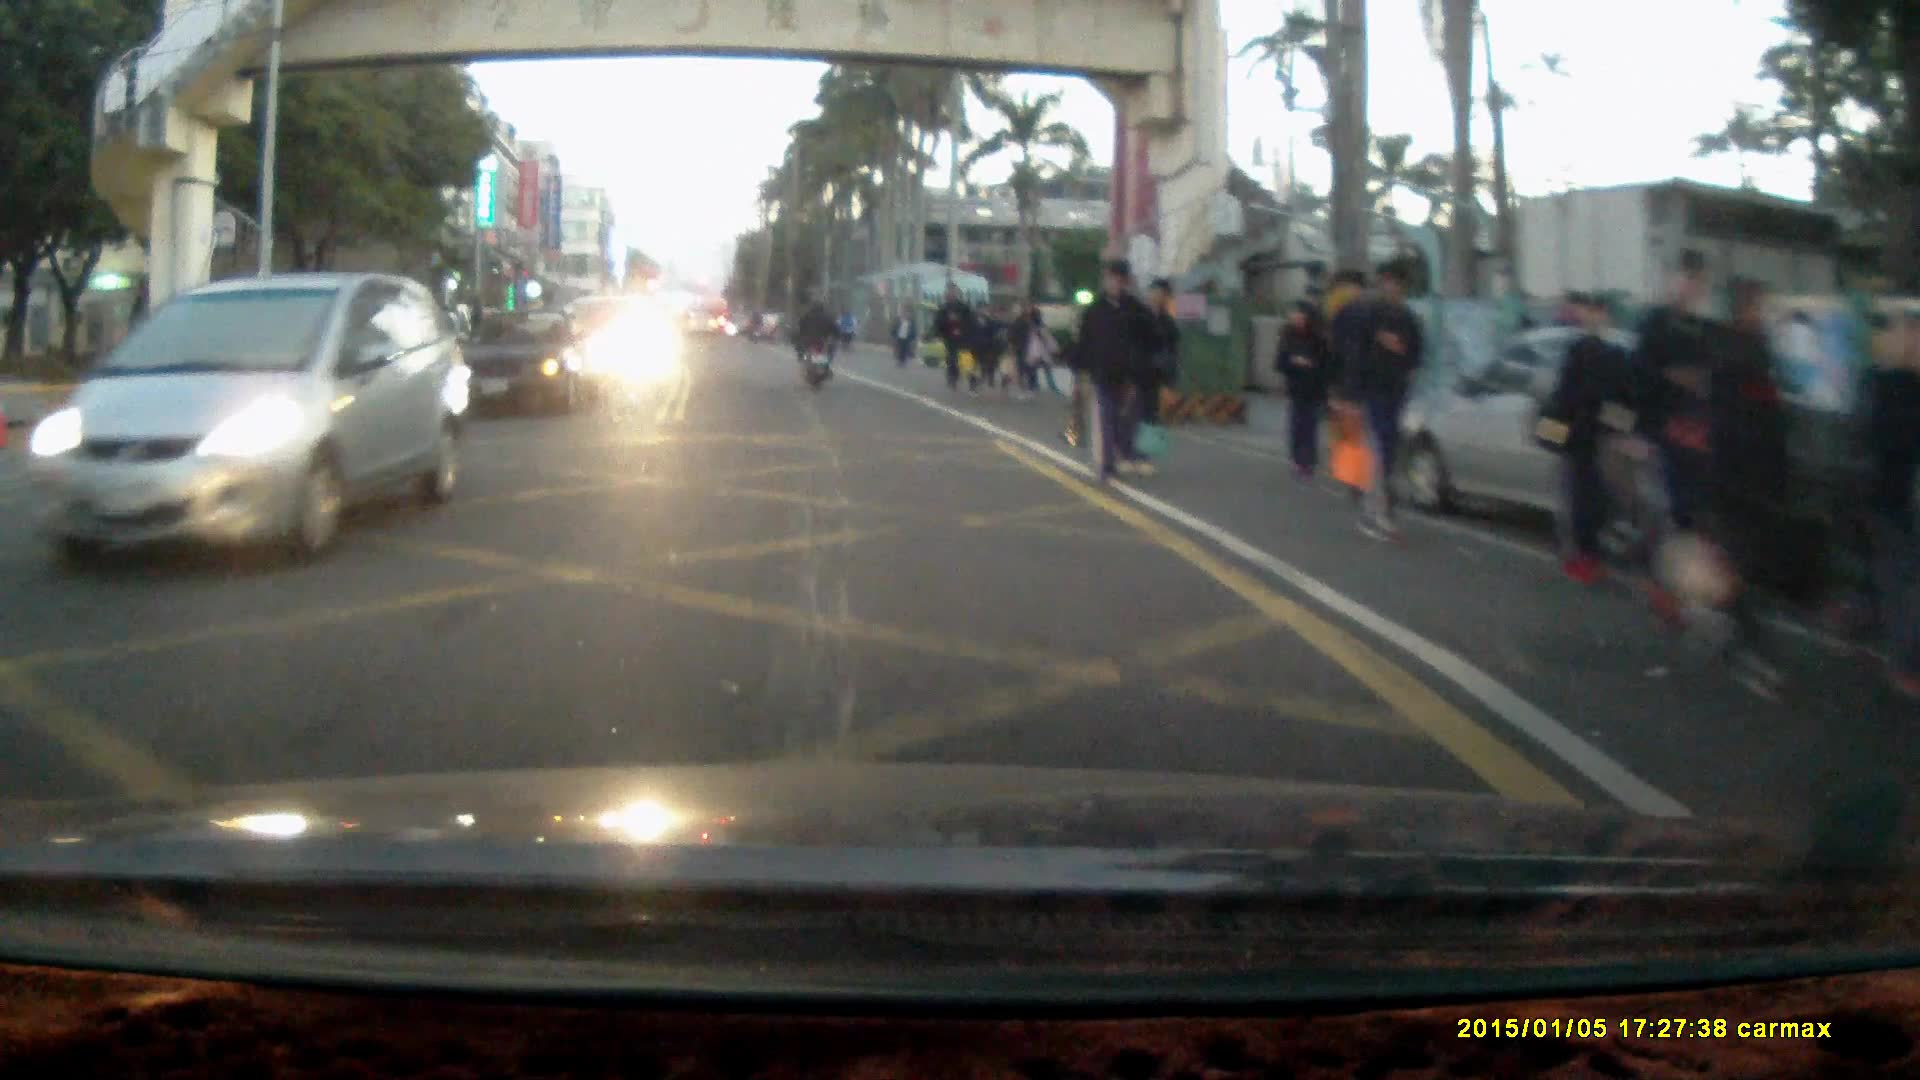pedestrian: (1626, 248, 1733, 633), (1711, 272, 1802, 701), (1552, 290, 1656, 592), (1852, 309, 1920, 706), (1347, 257, 1430, 545), (1071, 255, 1153, 485), (1329, 271, 1393, 502), (1124, 276, 1186, 468), (1274, 300, 1329, 490), (1009, 290, 1056, 405), (933, 278, 970, 391), (964, 295, 1000, 394), (889, 301, 916, 369)
rider: (794, 296, 838, 393)
vehicle: (30, 271, 459, 568), (1398, 319, 1832, 581), (450, 304, 610, 413)
